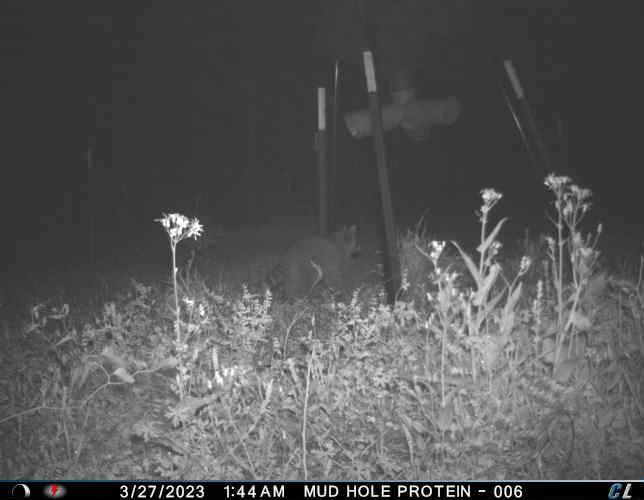Raccoon: (242, 221, 366, 299)
